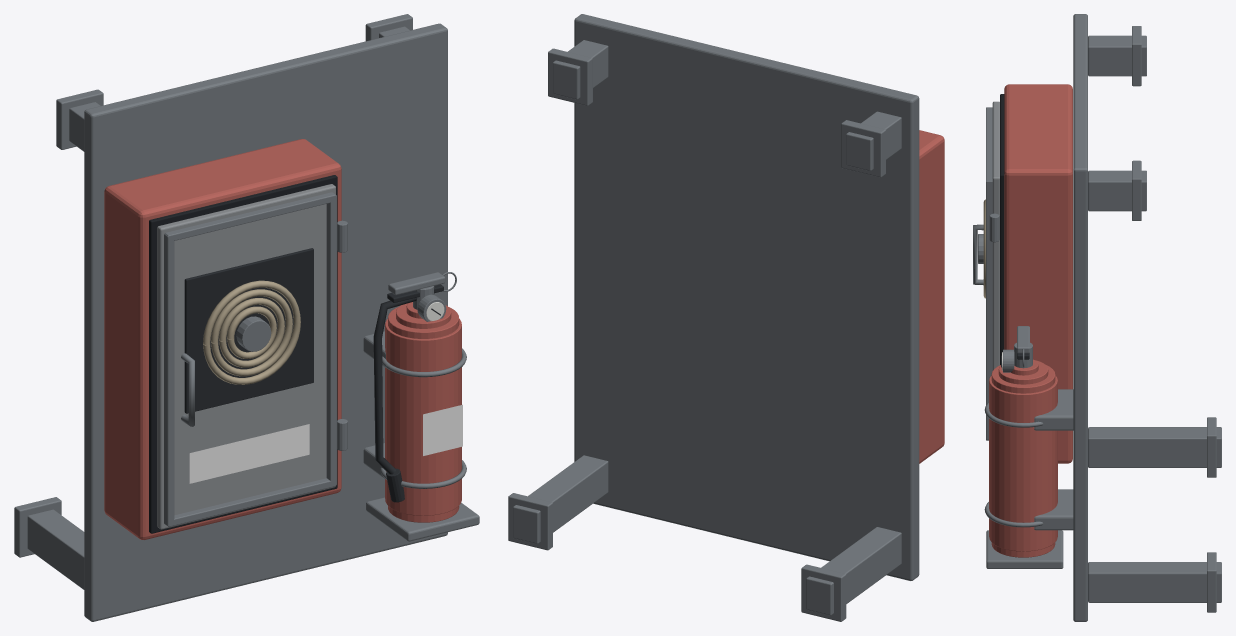
The model's file is BP_WallSafety_R7.fbx.
The picture shows the model from 3 angles, left to right: view 1: azimuth 30°, elevation 25°; view 2: azimuth 150°, elevation 25°; view 3: azimuth 270°, elevation 25°; orthographic projection. The views are drawn at different scales.
Visible parts, largest first — view 1: BP_WallSafety_R7; view 2: BP_WallSafety_R7; view 3: BP_WallSafety_R7.
Boxes of the visible parts, x1=… form: BP_WallSafety_R7: x1=14, y1=14, x2=479, y2=621; BP_WallSafety_R7: x1=508, y1=14, x2=944, y2=621; BP_WallSafety_R7: x1=973, y1=14, x2=1221, y2=621.
Bounding box in the file's own units: 134 × 182 × 90.49.
